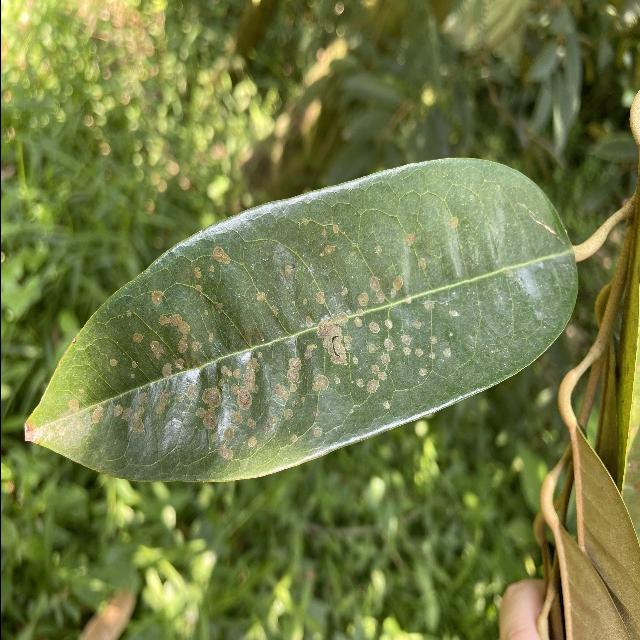Algal Leaf Spot: (17, 149, 591, 497)
